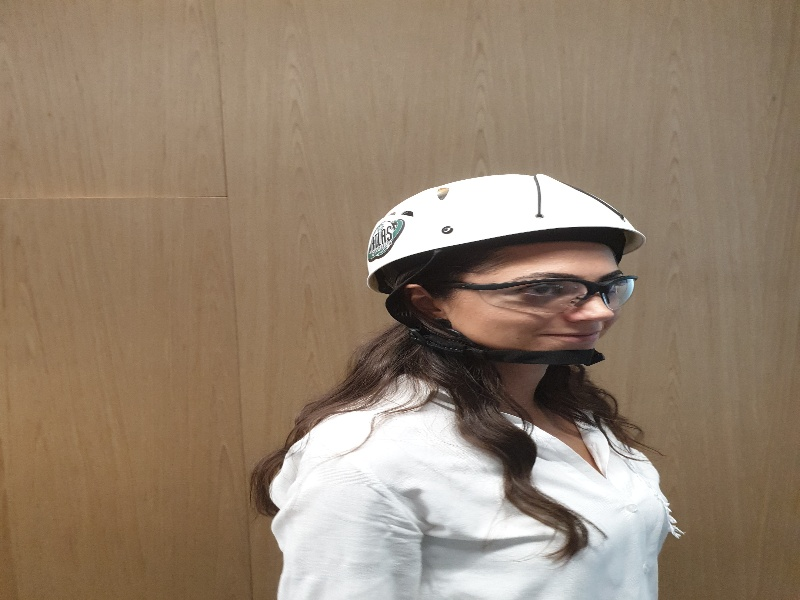Baret: (367, 173, 648, 269)
Gozluk: (439, 273, 637, 312)
